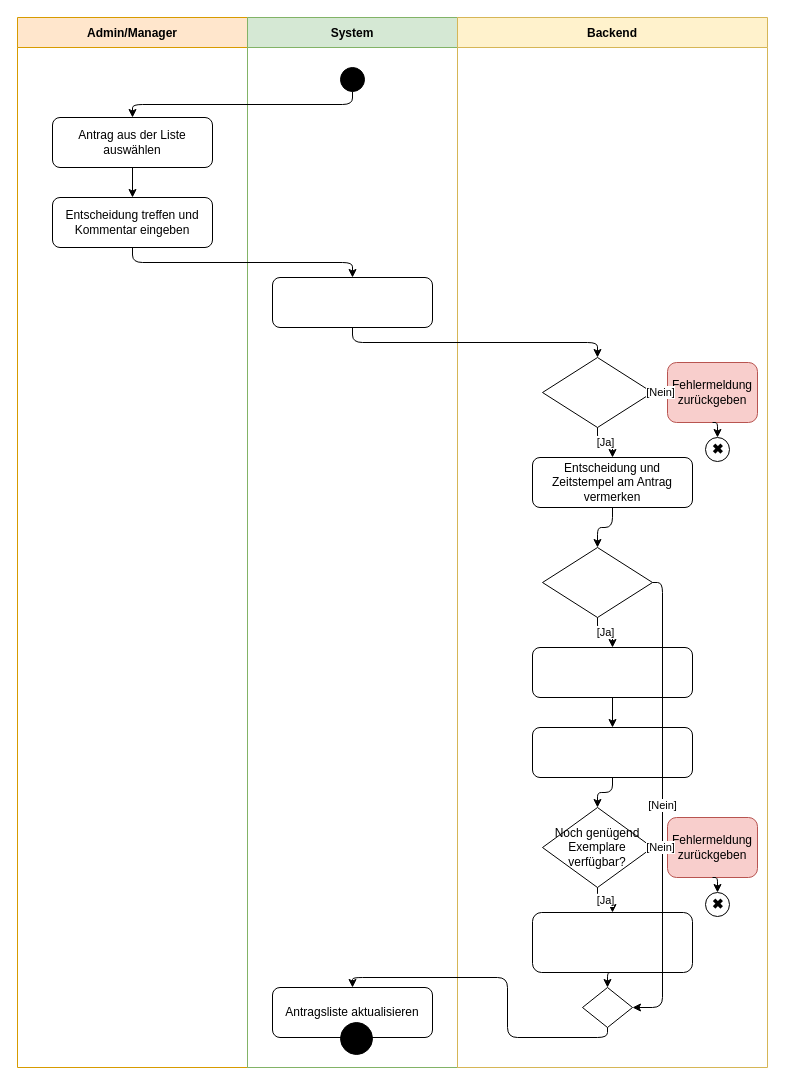
Image size: 785x1085. Some labels were removed from this diagram. The box of each missing label's shape, as (x1, y1, x2, y2) in pixels:
Antrag genehmigt?: (542, 546, 652, 618)
Antrag vorhanden?: (542, 356, 652, 428)
Ausleihe automatisch erstellen und Exemplare als „Ausgeliehen“ markieren: (532, 912, 692, 972)
Entscheidung absenden: (272, 276, 432, 328)
Fälligkeitsdatum berechnen: (532, 646, 692, 698)
Verfügbare Exemplare für jedes Werkzeug auswählen: (532, 726, 692, 778)
